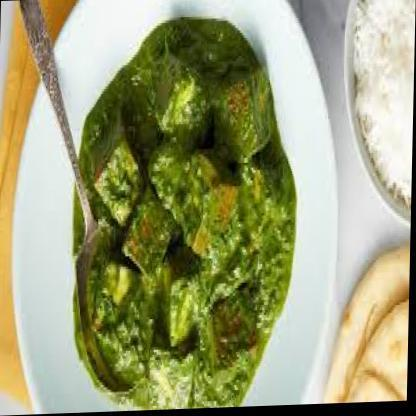palak_paneer: (69, 14, 301, 414)
